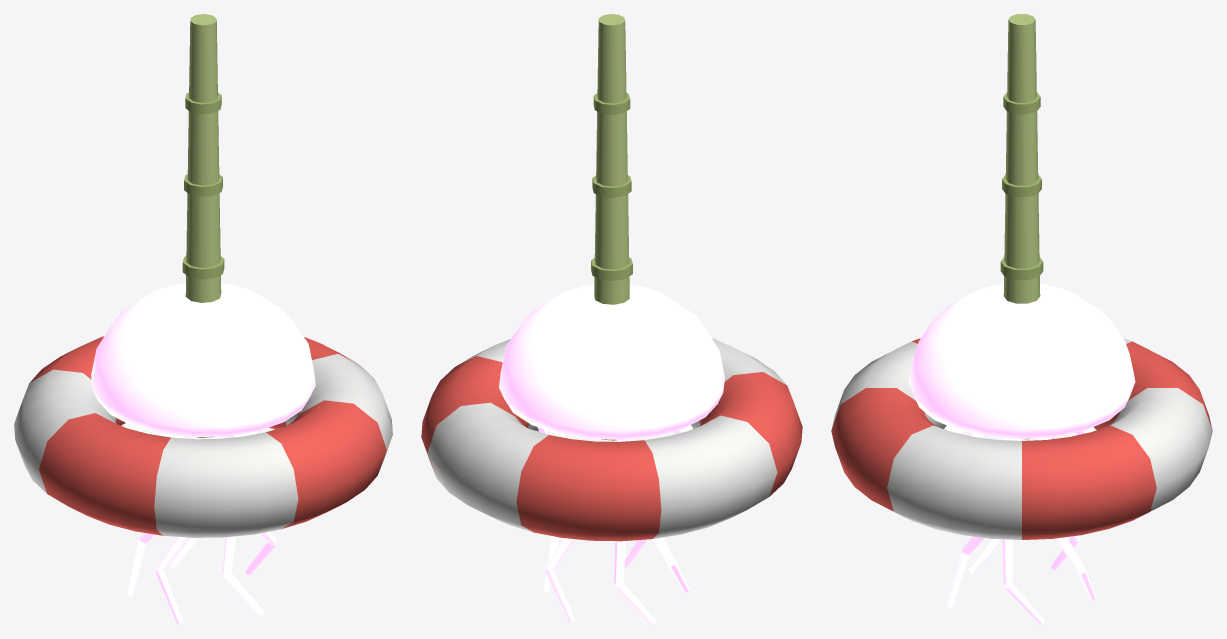
File: props.glb
3 views of the same model, side by side, from view 1: azimuth 30°, elevation 25°; view 2: azimuth 150°, elevation 25°; view 3: azimuth 270°, elevation 25° (orthographic).
Parts seen in each view (by area): view 1: ring, jelly, pole; view 2: ring, jelly, pole; view 3: ring, jelly, pole.
Part boxes in pixels (box(x1,y1,x2,y2)): ring: box(14, 336, 392, 537); jelly: box(91, 283, 315, 624); pole: box(182, 14, 224, 437); ring: box(421, 338, 802, 541); jelly: box(499, 284, 724, 624); pole: box(591, 14, 632, 440); ring: box(831, 338, 1212, 539); jelly: box(908, 284, 1135, 624); pole: box(1000, 14, 1043, 439).
Size of the model in its own units: 0.84 by 1.4 by 0.84.
